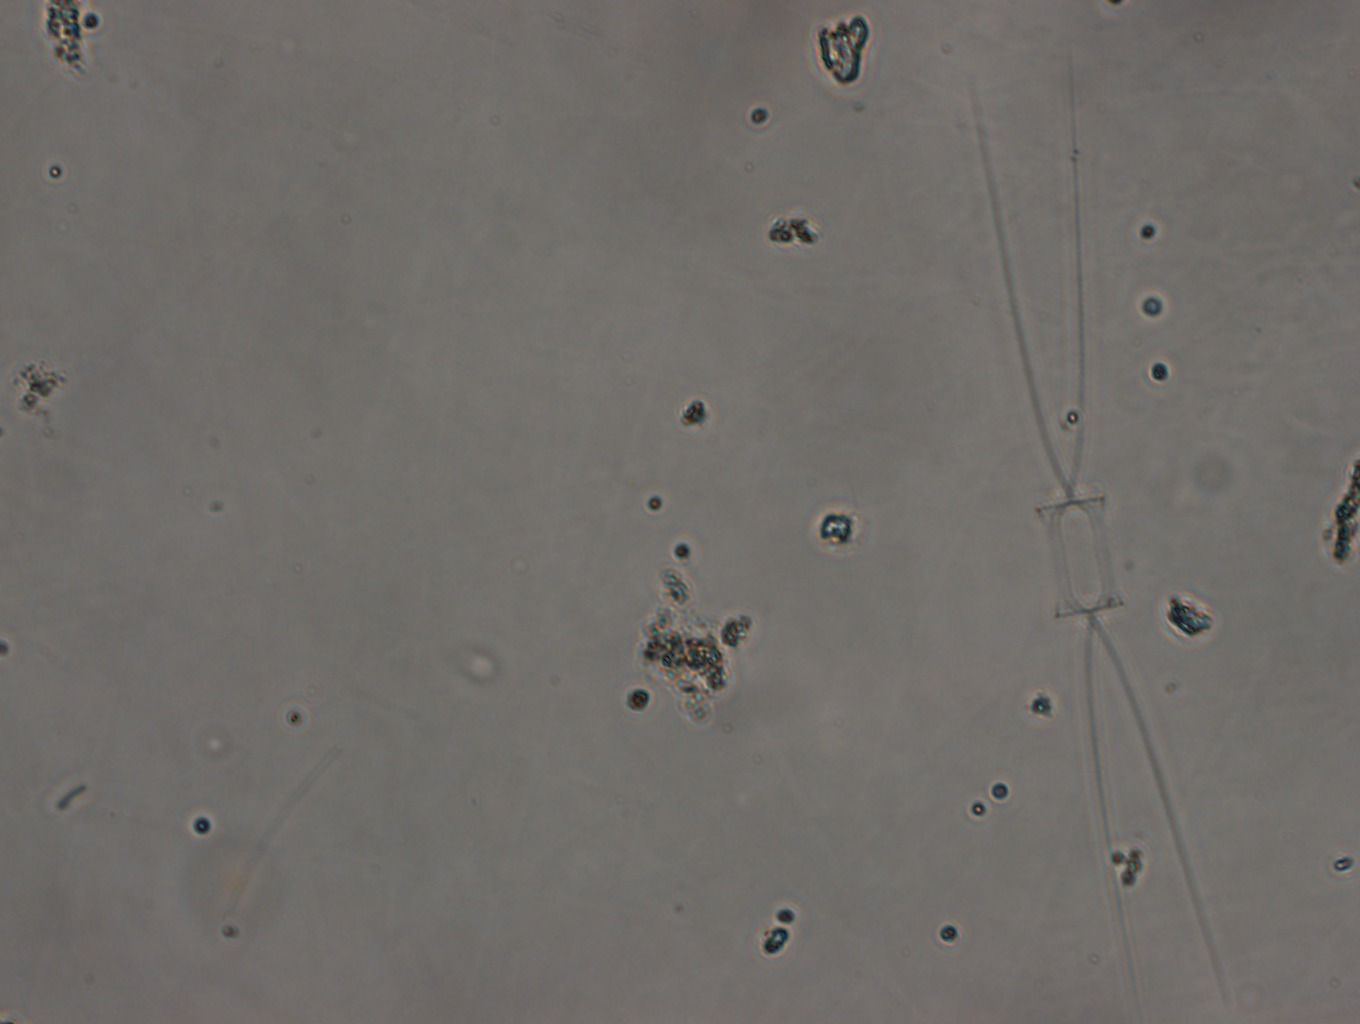chaetoceros: (964, 90, 1226, 992)
